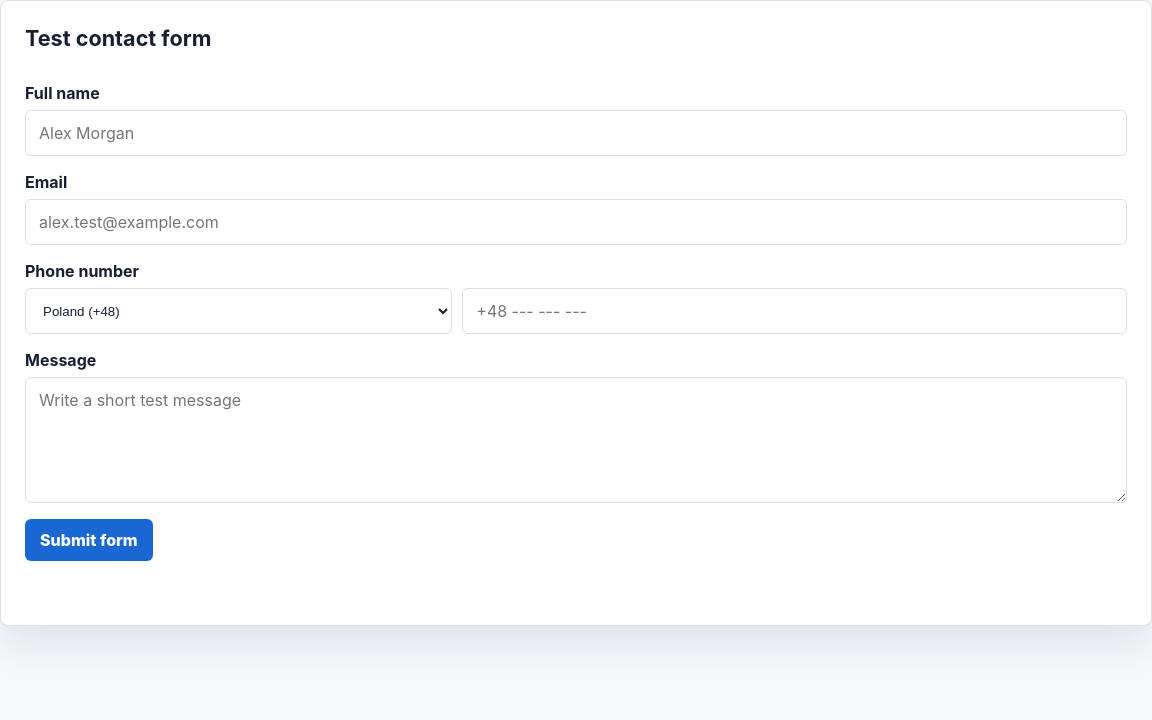
Test: shows required field validation
The width and height of the screenshot is (1152, 720).
Click the button "Submit form": coordinates (89, 540) [25, 519, 153, 561]
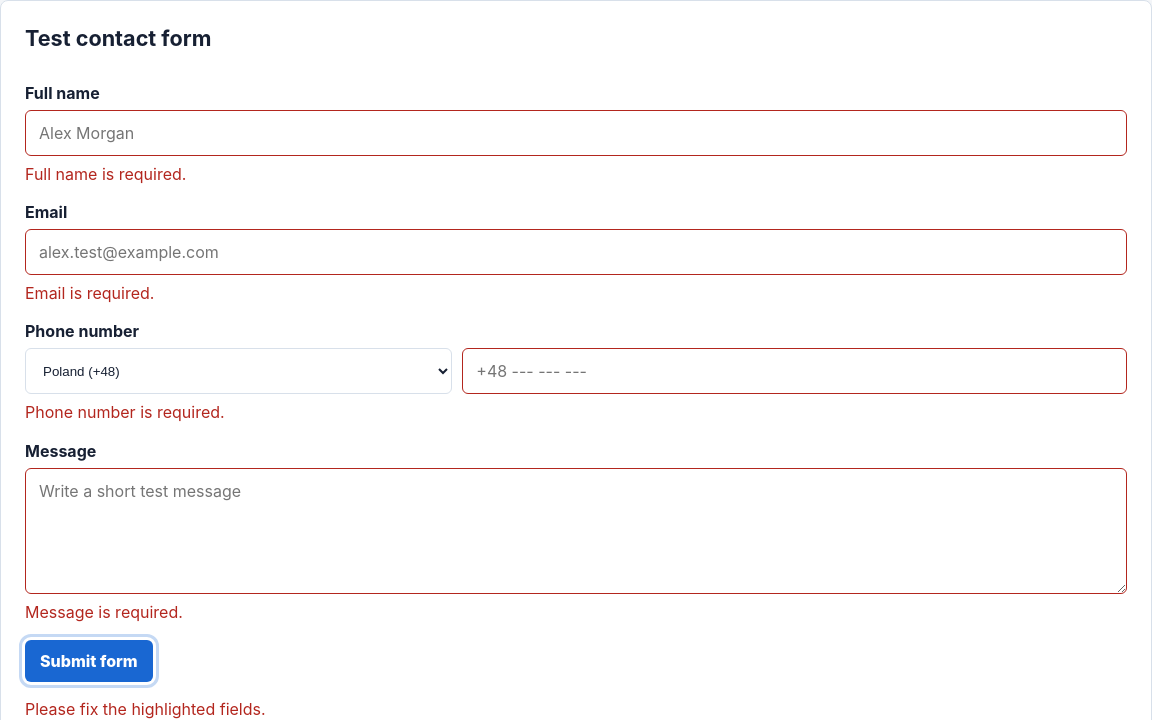
Expected: the text "Full name is required." is shown, [25, 164, 186, 184]
Expected: the text "Email is required." is shown, [25, 283, 154, 303]
Expected: the text "Phone number is required." is shown, [25, 402, 225, 422]
